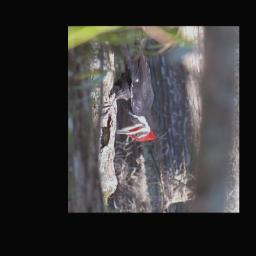Woodpecker: (93, 32, 158, 141)
